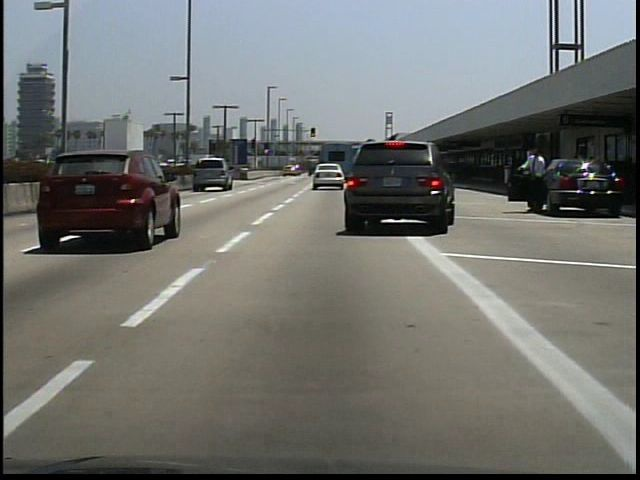person: (516, 144, 548, 217)
